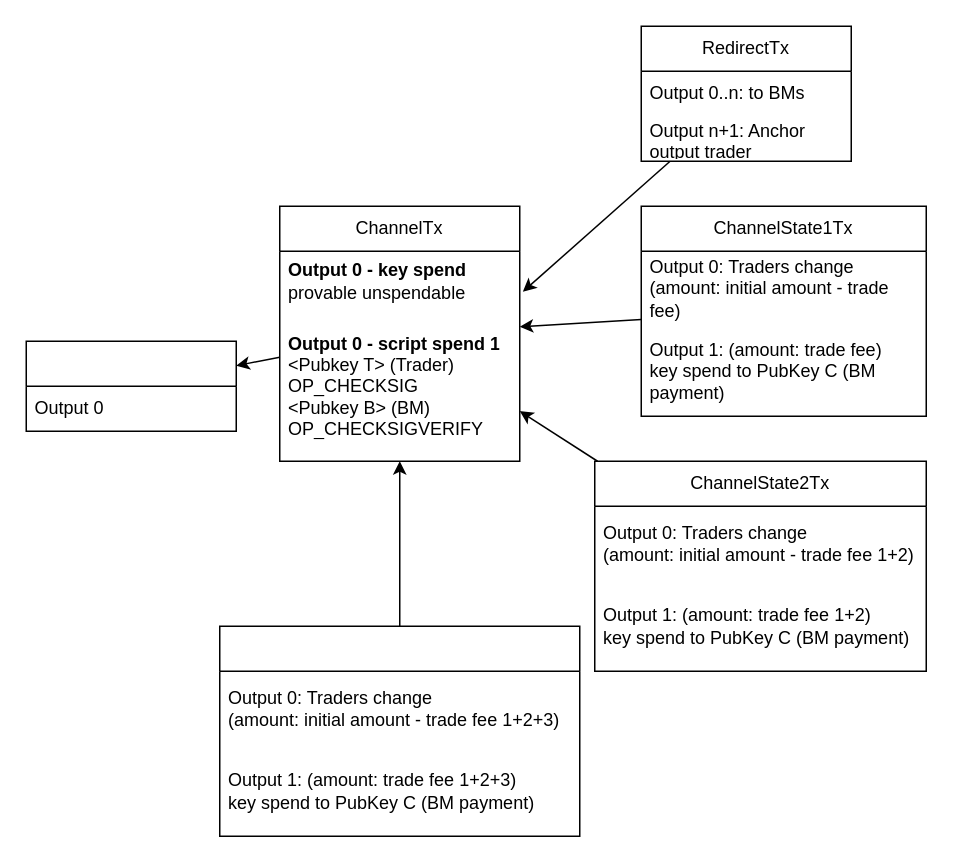
Some shapes in this 953 by 863 pixel diagram are drawn without their labels. Each missing label, with the box of its shape:
ChannelState3Tx: (218, 625, 580, 836)
Traders Funds: (25, 340, 236, 431)
